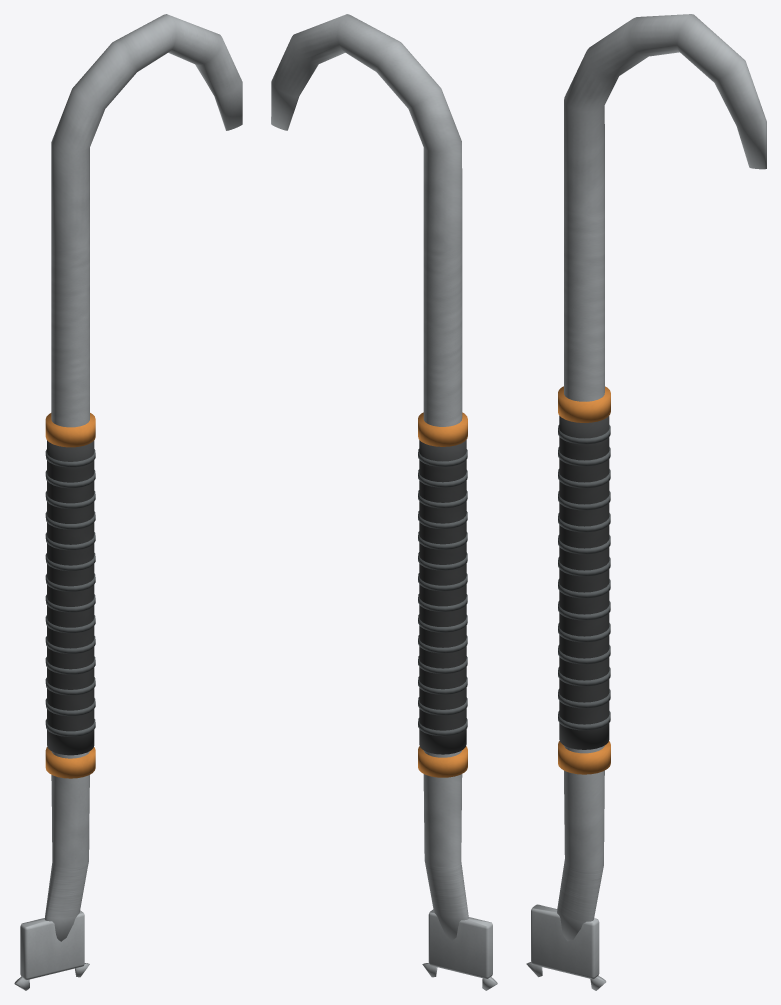
The model's file is crowbar.glb.
3 renders of one model, left to right at view 1: azimuth 30°, elevation 25°; view 2: azimuth 150°, elevation 25°; view 3: azimuth 330°, elevation 25°, orthographic. The views are drawn at different scales.
Visible parts, largest first — view 1: VIS_HeatTreatedForgedSteel_BentProfile, VIS_OvermoldedGrip, VIS_FlattenedPryBlade, VIS_UpperFerrule, VIS_LowerFerrule; view 2: VIS_HeatTreatedForgedSteel_BentProfile, VIS_OvermoldedGrip, VIS_FlattenedPryBlade, VIS_UpperFerrule, VIS_LowerFerrule; view 3: VIS_HeatTreatedForgedSteel_BentProfile, VIS_OvermoldedGrip, VIS_FlattenedPryBlade, VIS_UpperFerrule, VIS_LowerFerrule.
Boxes of the visible parts, x1,y1,x2,y2 form: VIS_HeatTreatedForgedSteel_BentProfile: [45, 14, 242, 941]; VIS_OvermoldedGrip: [47, 440, 94, 755]; VIS_FlattenedPryBlade: [20, 910, 84, 979]; VIS_UpperFerrule: [45, 413, 95, 447]; VIS_LowerFerrule: [45, 747, 95, 778]; VIS_HeatTreatedForgedSteel_BentProfile: [271, 14, 468, 940]; VIS_OvermoldedGrip: [419, 440, 466, 754]; VIS_FlattenedPryBlade: [428, 909, 492, 978]; VIS_UpperFerrule: [418, 412, 467, 446]; VIS_LowerFerrule: [418, 746, 467, 777]; VIS_HeatTreatedForgedSteel_BentProfile: [557, 14, 766, 941]; VIS_OvermoldedGrip: [559, 416, 609, 749]; VIS_FlattenedPryBlade: [531, 904, 599, 979]; VIS_UpperFerrule: [558, 386, 610, 422]; VIS_LowerFerrule: [558, 741, 610, 774].
Bounding box in the file's own units: 0.1892 × 0.7477 × 0.036.
Materials: 4 (4 with a texture image).
